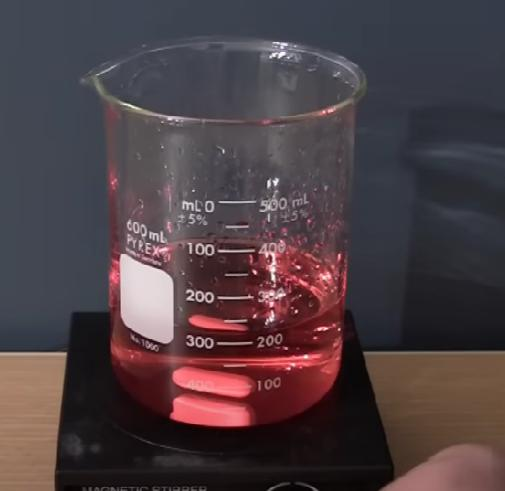Beaker: (76, 43, 370, 423)
